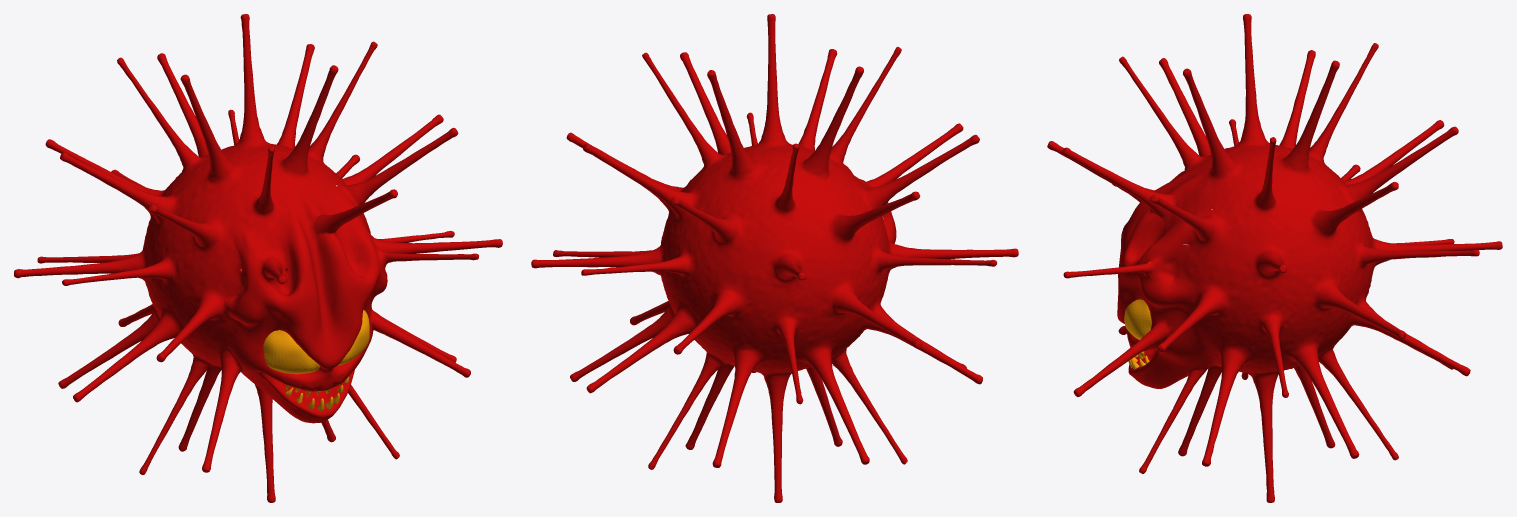
3 views of the same model, side by side, from view 1: azimuth 30°, elevation 25°; view 2: azimuth 150°, elevation 25°; view 3: azimuth 270°, elevation 25° (orthographic).
Visible parts, largest first — view 1: Icosphere.001_4, Roundcube_2; view 2: Icosphere.001_4; view 3: Icosphere.001_4, Roundcube_2.
Boxes of the visible parts, box(x1,y1,x2,y2) form: Icosphere.001_4: box(14, 14, 502, 502); Roundcube_2: box(263, 310, 369, 374); Icosphere.001_4: box(531, 14, 1018, 502); Icosphere.001_4: box(1047, 14, 1502, 502); Roundcube_2: box(1124, 262, 1151, 339).
Bounding box in the file's own units: 5.35 × 5.15 × 5.07.
